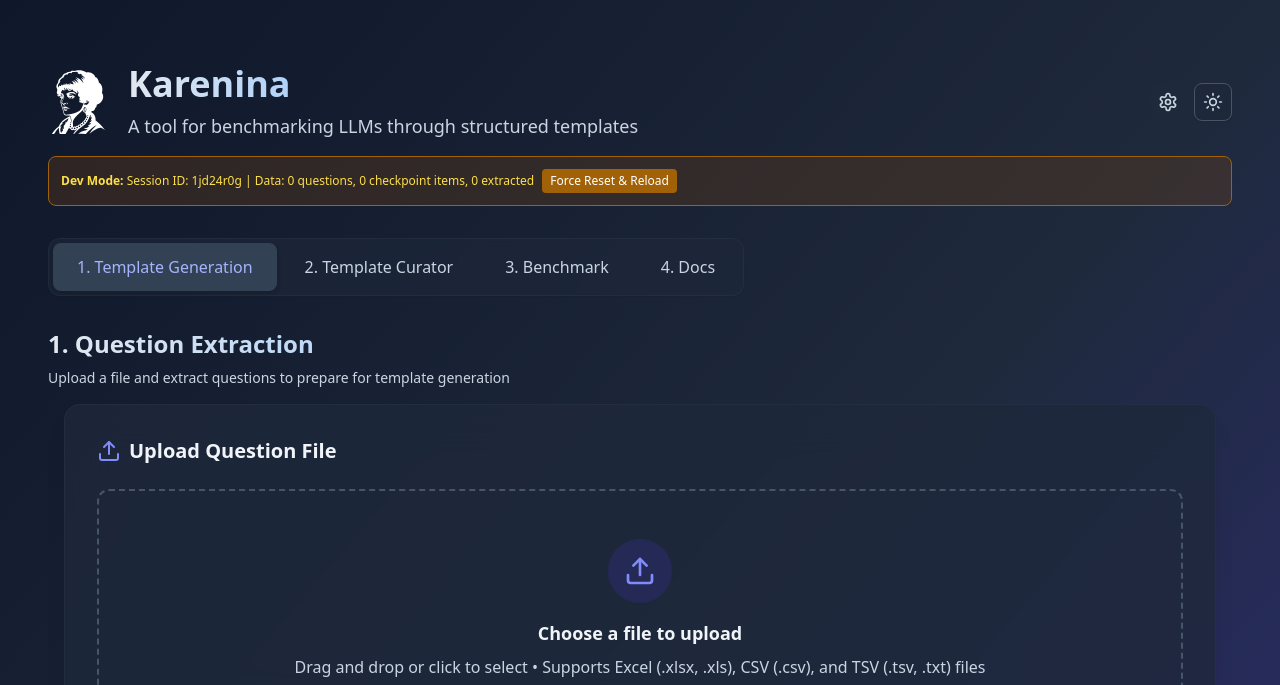
Test: App Component › Data Loading and Integration › should maintain state consistency during consecutive checkpoint loads
# Navigate to Template Curator to trigger checkpoint usage
Click the button "2. Template Curator" at (379, 267), box [281, 243, 477, 291]
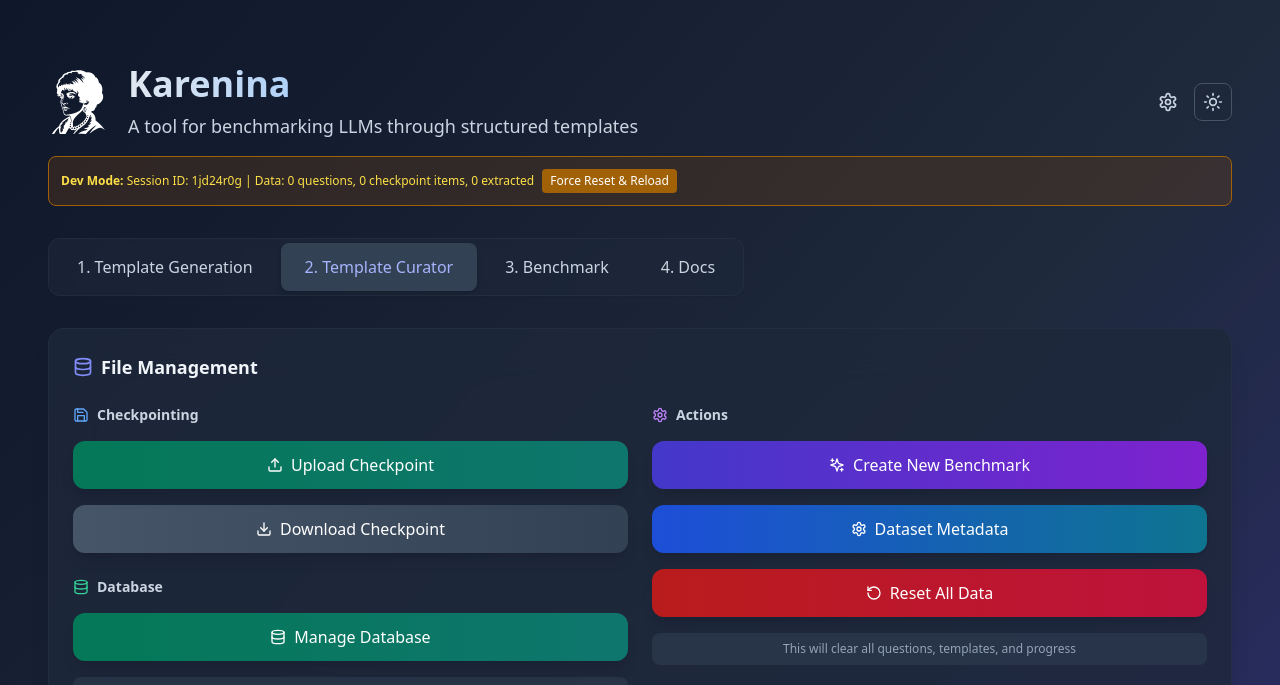
Expected: the heading "File Management" is shown, [73, 355, 258, 379]
# Navigate away and back to trigger re-loading
Click the button "1. Template Generation" at (165, 267), box [53, 243, 277, 291]
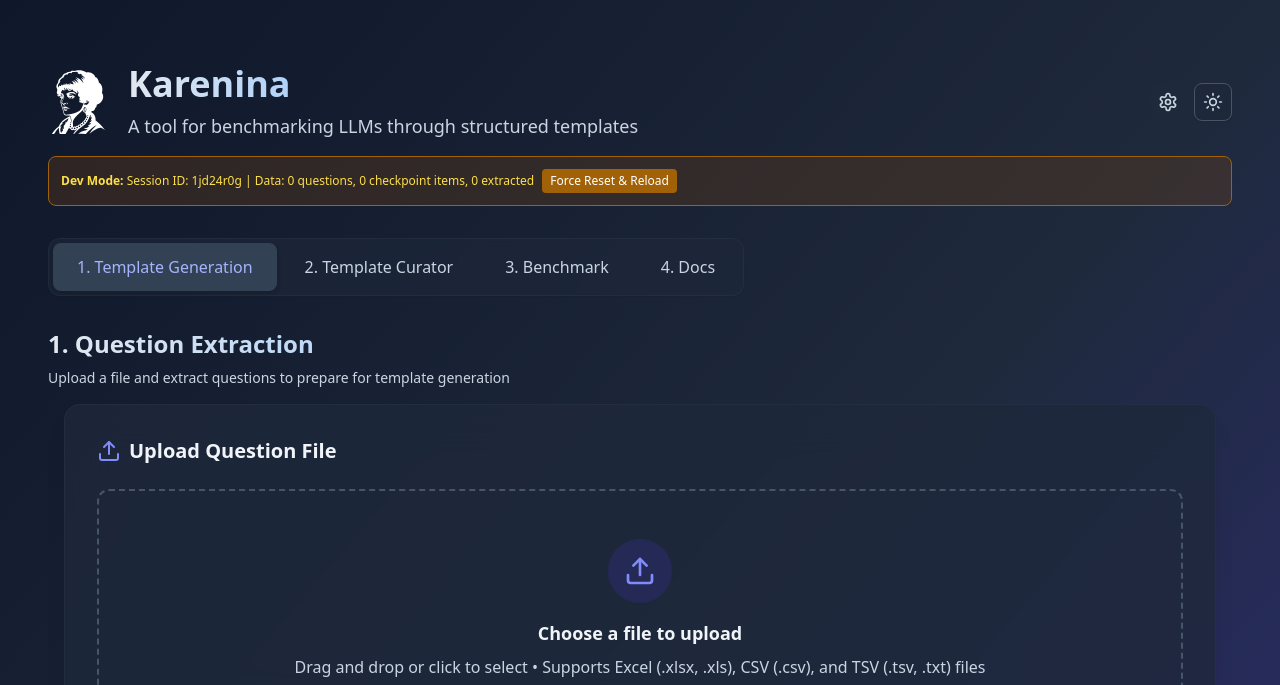
Click the button "2. Template Curator" at (379, 267), box [281, 243, 477, 291]
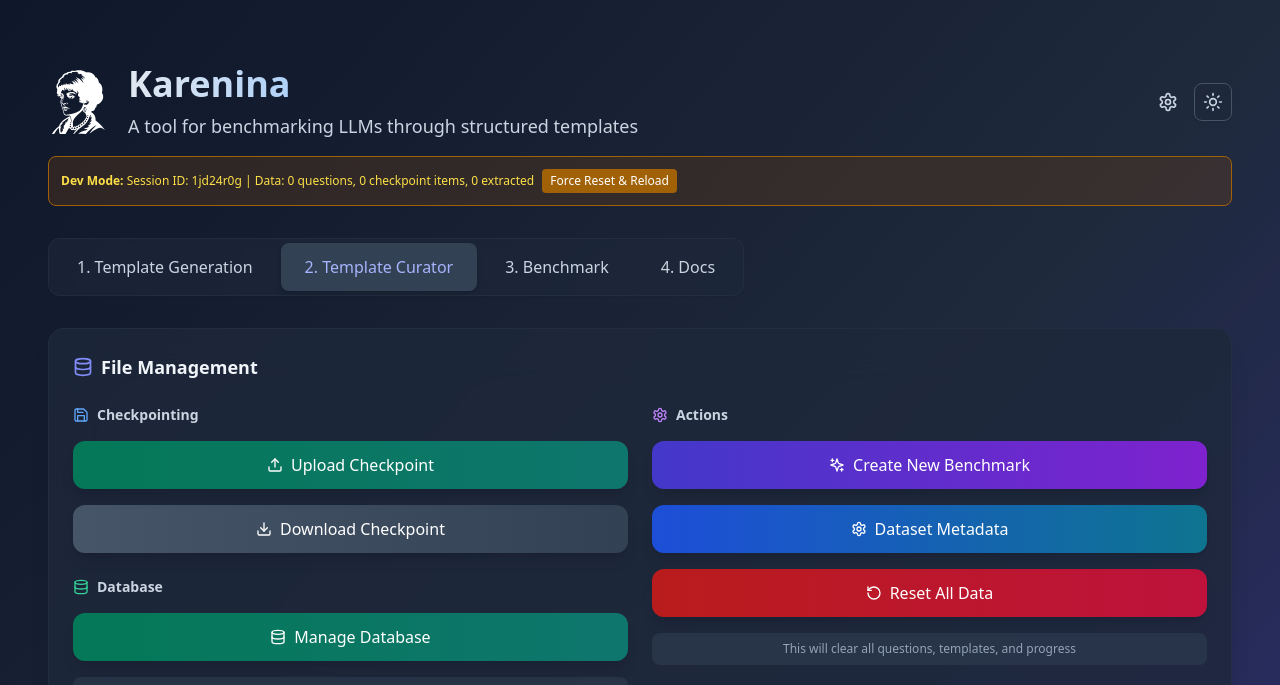
Expected: the heading "Karenina" is shown, [128, 64, 638, 104]
Expected: the heading "File Management" is shown, [73, 355, 258, 379]
